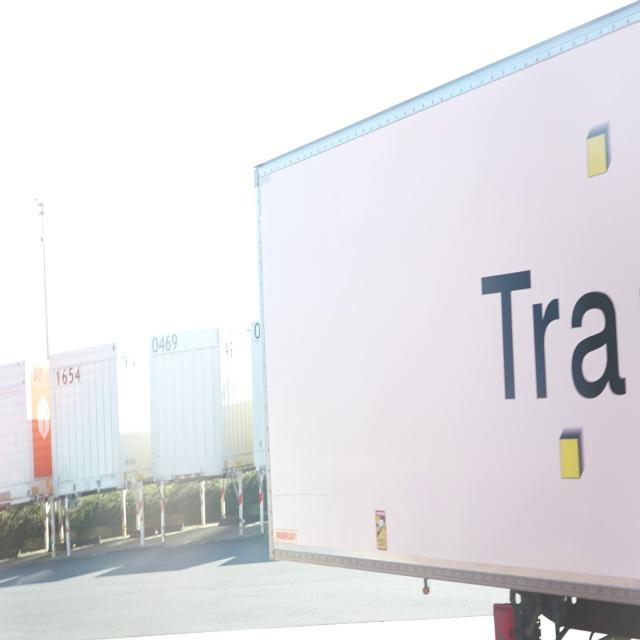Code: (54, 359, 86, 392), (150, 328, 182, 357)
